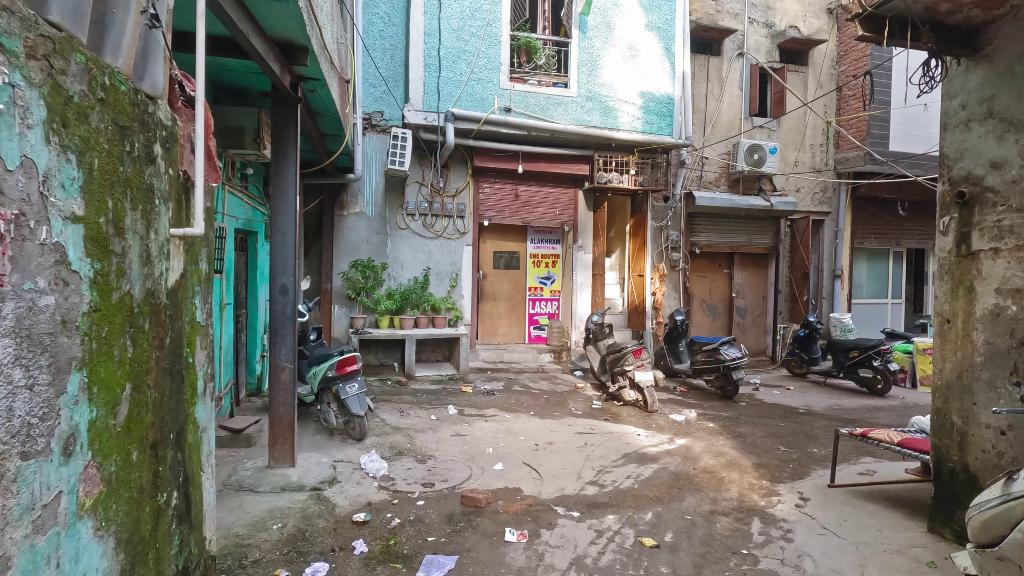garbage: (416, 551, 459, 576), (359, 452, 390, 480), (670, 406, 696, 426), (303, 560, 331, 576), (503, 527, 528, 543)
